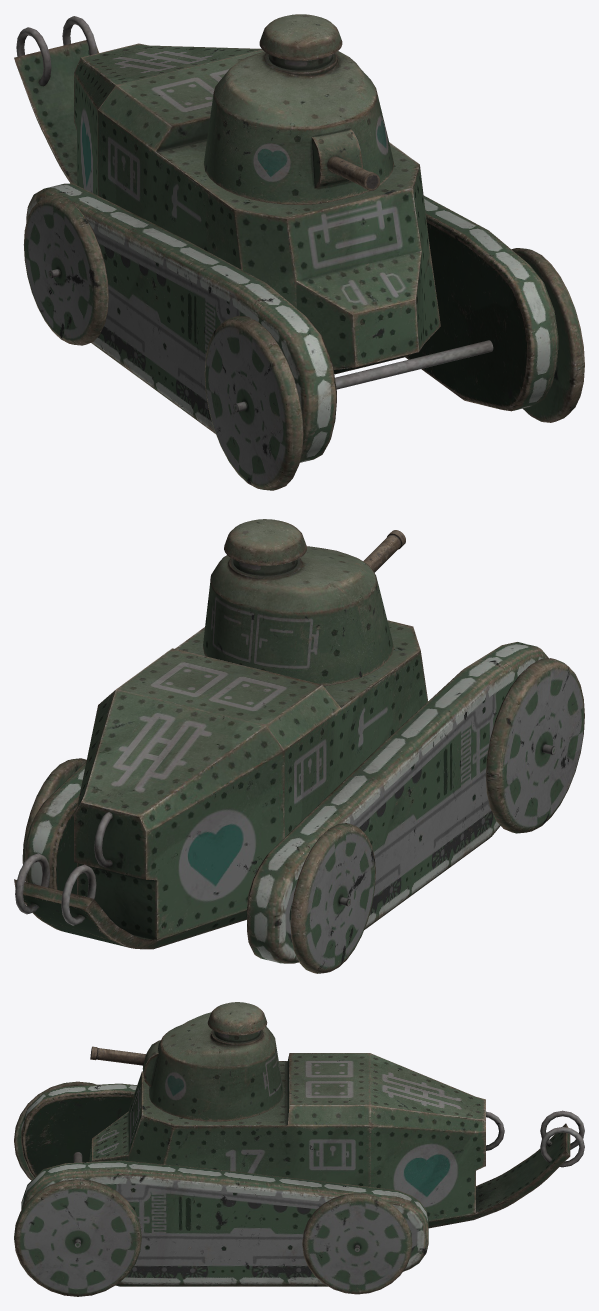
Rendered from tankToy.fbx.
3 views of the same model, one above another, from view 1: azimuth 30°, elevation 25°; view 2: azimuth 150°, elevation 25°; view 3: azimuth 270°, elevation 25° (orthographic). The views are drawn at different scales.
Parts seen in each view (by area): view 1: 1920s Wooden Toy FT-17 Tank.001; view 2: 1920s Wooden Toy FT-17 Tank.001; view 3: 1920s Wooden Toy FT-17 Tank.001.
Boxes of the visible parts, bbox=[...] form: 1920s Wooden Toy FT-17 Tank.001: bbox=[14, 14, 584, 490]; 1920s Wooden Toy FT-17 Tank.001: bbox=[14, 519, 584, 973]; 1920s Wooden Toy FT-17 Tank.001: bbox=[14, 1002, 584, 1296].
Size of the model in its own units: 14.25 by 14.58 by 30.85.
1 material, 1 textured.
